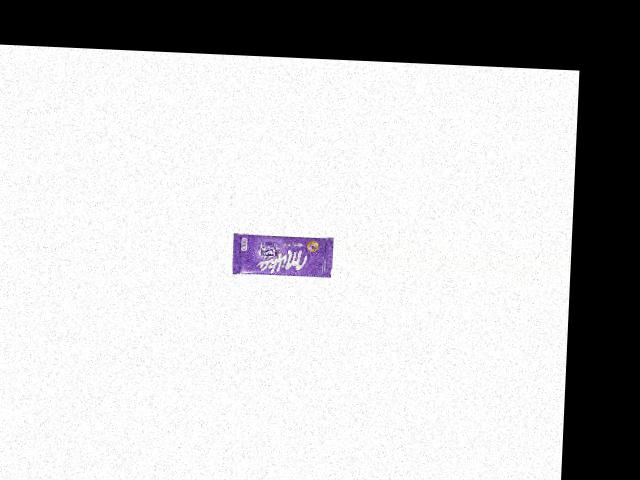chocolate: (226, 227, 334, 280)
